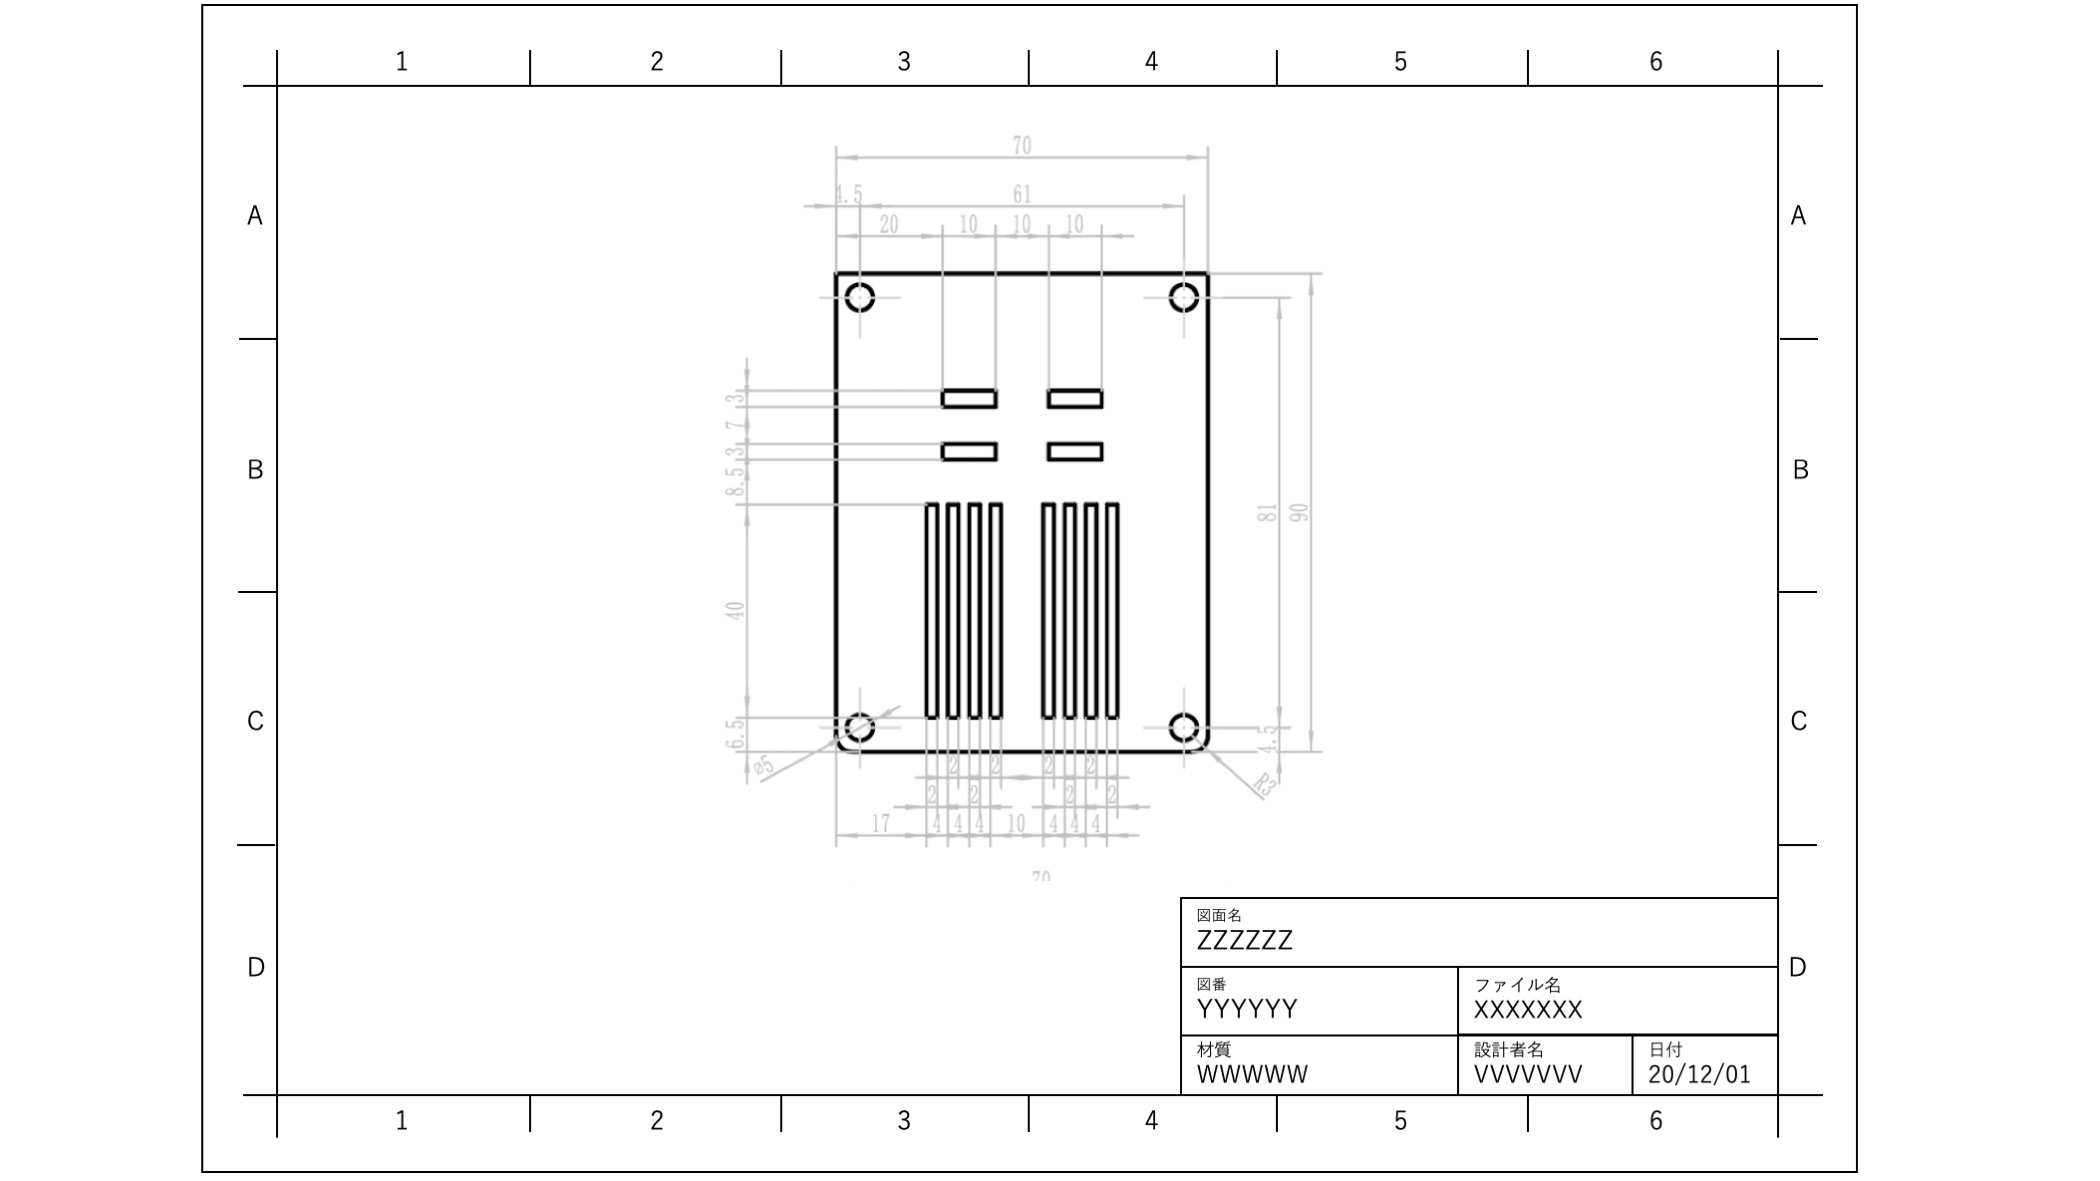circle: (842, 699, 874, 747), (1164, 707, 1200, 746), (842, 280, 875, 311), (1167, 281, 1199, 311)
rectangle: (920, 489, 945, 725), (1034, 495, 1057, 720), (1100, 495, 1121, 724), (1059, 492, 1079, 720), (985, 496, 1005, 720), (940, 495, 958, 727), (963, 492, 981, 724), (1083, 490, 1100, 722), (1040, 379, 1109, 417), (935, 434, 1004, 470), (935, 381, 1000, 412), (1043, 437, 1108, 467)
